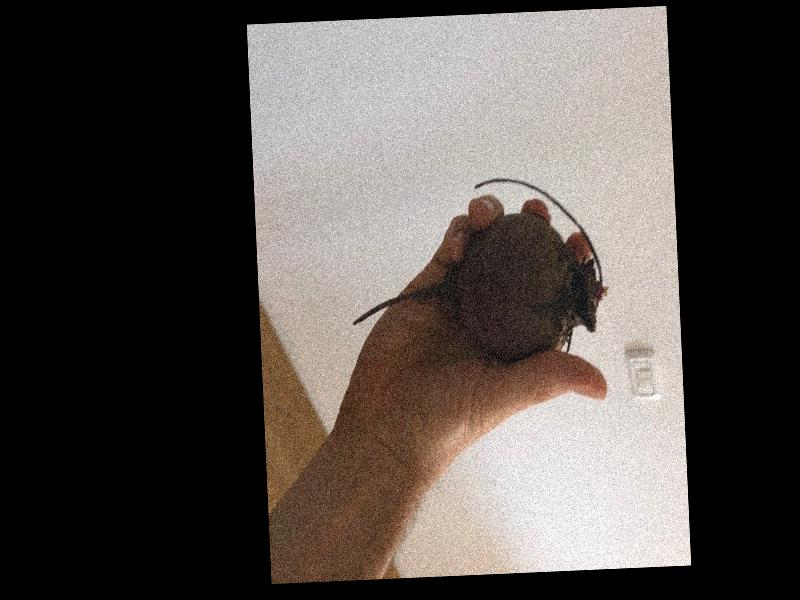Beet: (347, 172, 609, 364)
